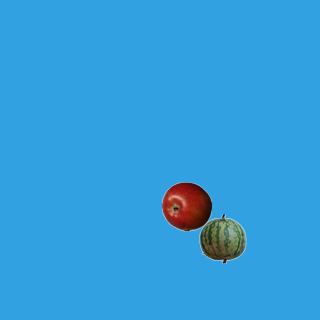Apple Braeburn: (161, 181, 211, 231)
Watermelon: (197, 213, 247, 263)
